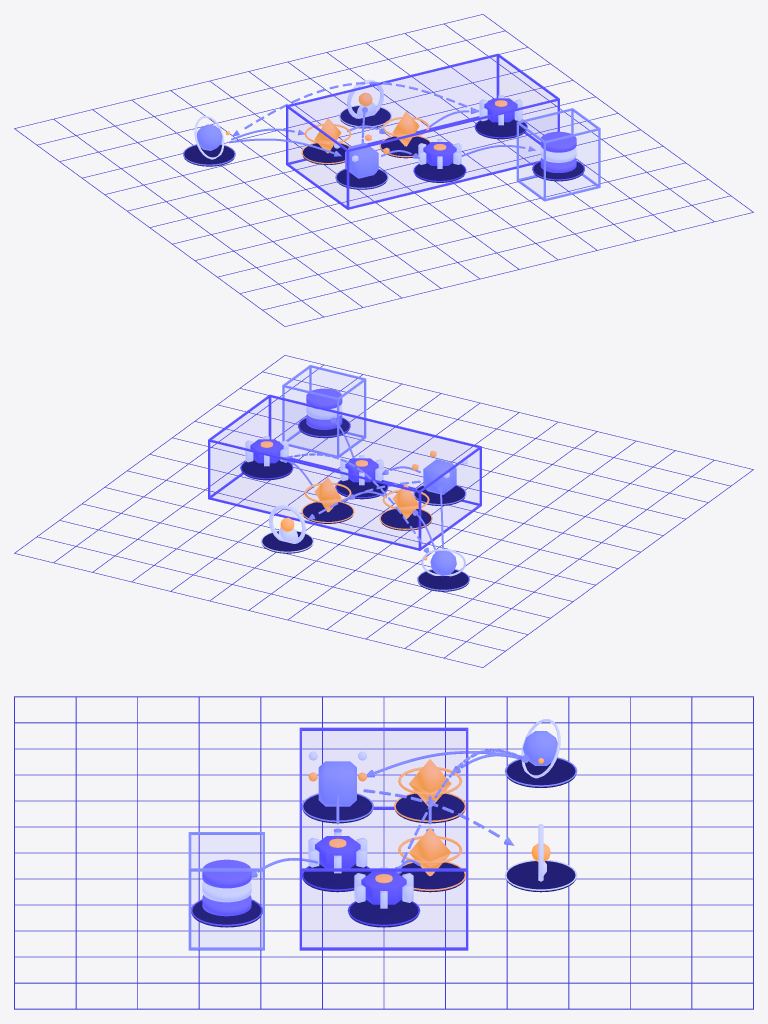
File: openbao.glb
3 renders of one model, top to bottom at view 1: azimuth 30°, elevation 25°; view 2: azimuth 150°, elevation 25°; view 3: azimuth 270°, elevation 25°, orthographic. The views are drawn at different scales.
Parts seen in each view (by area): view 1: floor, group_OpenBao_server, group_Storage, mesh_kv_core, mesh_app_pad, mesh_barrier_pad, mesh_token_pad, mesh_kv_pad, mesh_auth_pad, mesh_audit_pad, mesh_policy_pad, mesh_raft_disc2 (+4 smaller); view 2: floor, group_OpenBao_server, group_Storage, mesh_kv_core, mesh_app_pad, mesh_policy_pad, mesh_token_pad, mesh_auth_pad, mesh_audit_pad, mesh_kv_pad, mesh_barrier_pad, mesh_raft_disc2 (+2 smaller); view 3: floor, group_OpenBao_server, mesh_kv_core, group_Storage, mesh_audit_pad, mesh_token_pad, mesh_app_pad, mesh_auth_pad, mesh_kv_pad, mesh_policy_pad, mesh_raft_disc2, mesh_barrier_pad (+9 smaller).
Boxes of the visible parts, x1,y1,x2,y2 form: floor: (14,14,753,326); group_OpenBao_server: (286,53,559,209); group_Storage: (516,108,600,201); mesh_kv_core: (345,143,378,178); mesh_app_pad: (184,145,234,166); mesh_barrier_pad: (414,162,464,182); mesh_token_pad: (476,119,526,139); mesh_kv_pad: (336,169,386,189); mesh_auth_pad: (303,143,348,164); mesh_audit_pad: (340,106,390,128); mesh_policy_pad: (381,136,429,158); mesh_raft_disc2: (540,131,576,152); floor: (14,355,753,667); group_OpenBao_server: (208,394,481,550); group_Storage: (282,365,366,457); mesh_kv_core: (423,459,456,494); mesh_app_pad: (418,570,468,591); mesh_policy_pad: (303,502,353,523); mesh_token_pad: (241,460,291,480); mesh_auth_pad: (381,509,431,530); mesh_audit_pad: (262,531,312,553); mesh_kv_pad: (414,485,464,505); mesh_barrier_pad: (336,479,386,499); mesh_raft_disc2: (306,388,342,408); floor: (14,696,753,1009); group_OpenBao_server: (299,727,468,950); mesh_kv_core: (318,761,356,806); group_Storage: (188,832,264,950); mesh_audit_pad: (506,861,575,892); mesh_token_pad: (349,899,418,927); mesh_app_pad: (506,758,575,787); mesh_auth_pad: (395,793,464,823); mesh_kv_pad: (303,794,372,823); mesh_policy_pad: (399,862,464,892); mesh_raft_disc2: (202,859,251,888); mesh_barrier_pad: (303,864,371,892).
Size of the model in its own units: 24.03 by 3.37 by 24.03.
